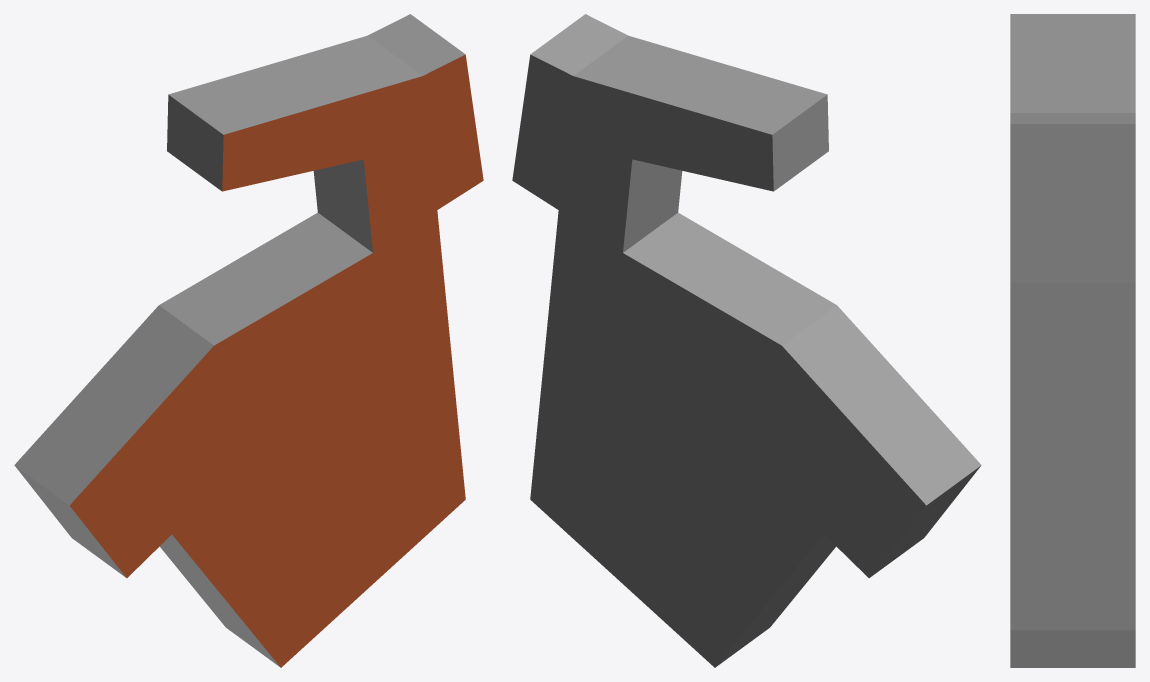
File: construction_6977_assumed_A_Casa_h6m.obj
3 renders of one model, left to right at view 1: azimuth 30°, elevation 25°; view 2: azimuth 150°, elevation 25°; view 3: azimuth 270°, elevation 25°, orthographic. The views are drawn at different scales.
Visible parts, largest first — view 1: construction_6977_assumed_A_Casa; view 2: construction_6977_assumed_A_Casa; view 3: construction_6977_assumed_A_Casa.
Boxes of the visible parts, left/top/right/bottom form: construction_6977_assumed_A_Casa: left=14, top=14, right=483, bottom=667; construction_6977_assumed_A_Casa: left=512, top=14, right=981, bottom=667; construction_6977_assumed_A_Casa: left=1010, top=14, right=1135, bottom=667.
Bounding box in the file's own units: 25.98 × 34.08 × 6.
